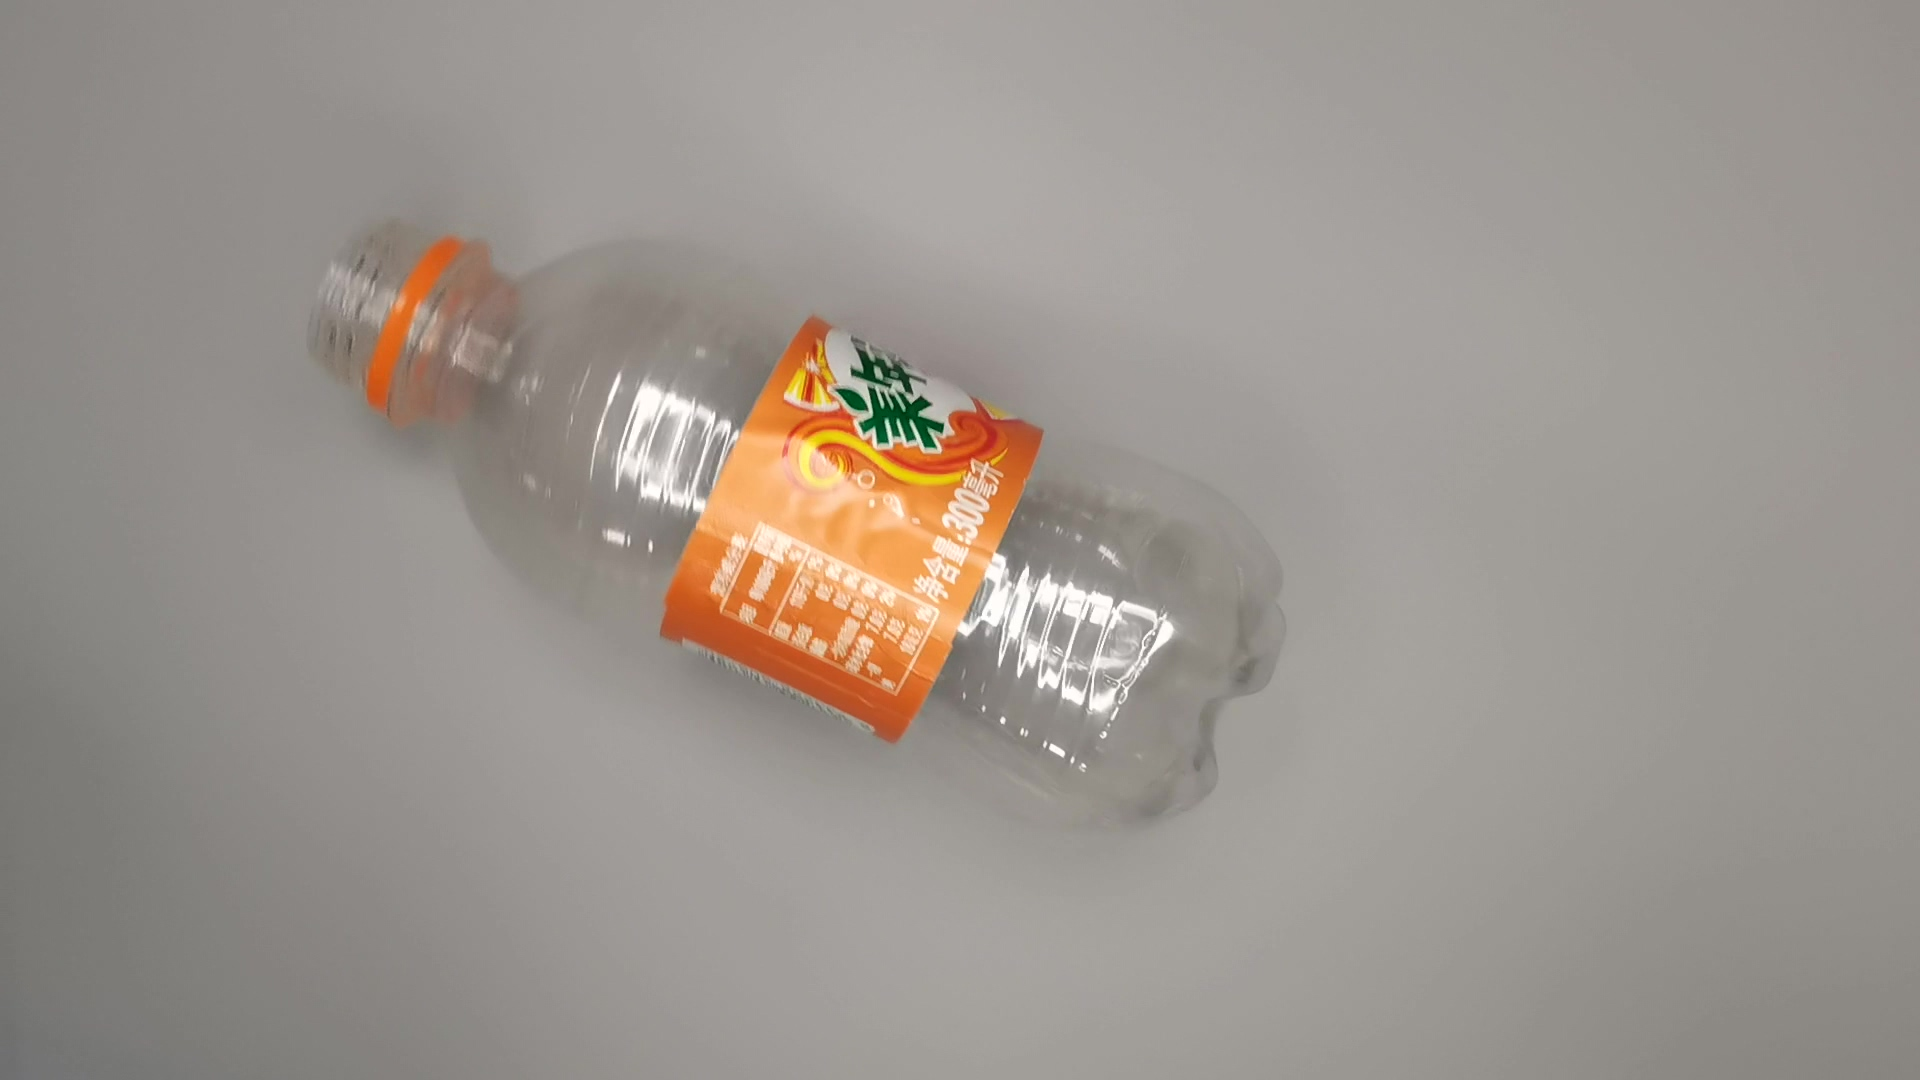bottle: (286, 219, 1300, 857)
